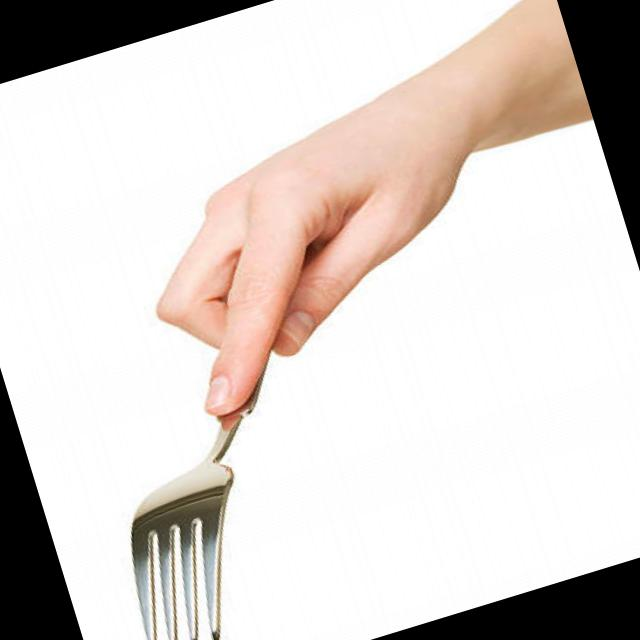fork: (30, 192, 405, 640)
